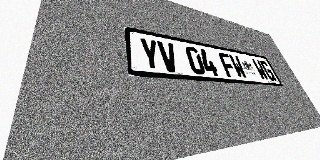0: (184, 46, 206, 75)
4: (198, 48, 219, 76)
F: (218, 52, 238, 78)
G: (259, 60, 277, 81)
V: (157, 41, 180, 73)
W: (228, 54, 248, 79), (251, 58, 270, 81)
Y: (138, 37, 162, 71)
